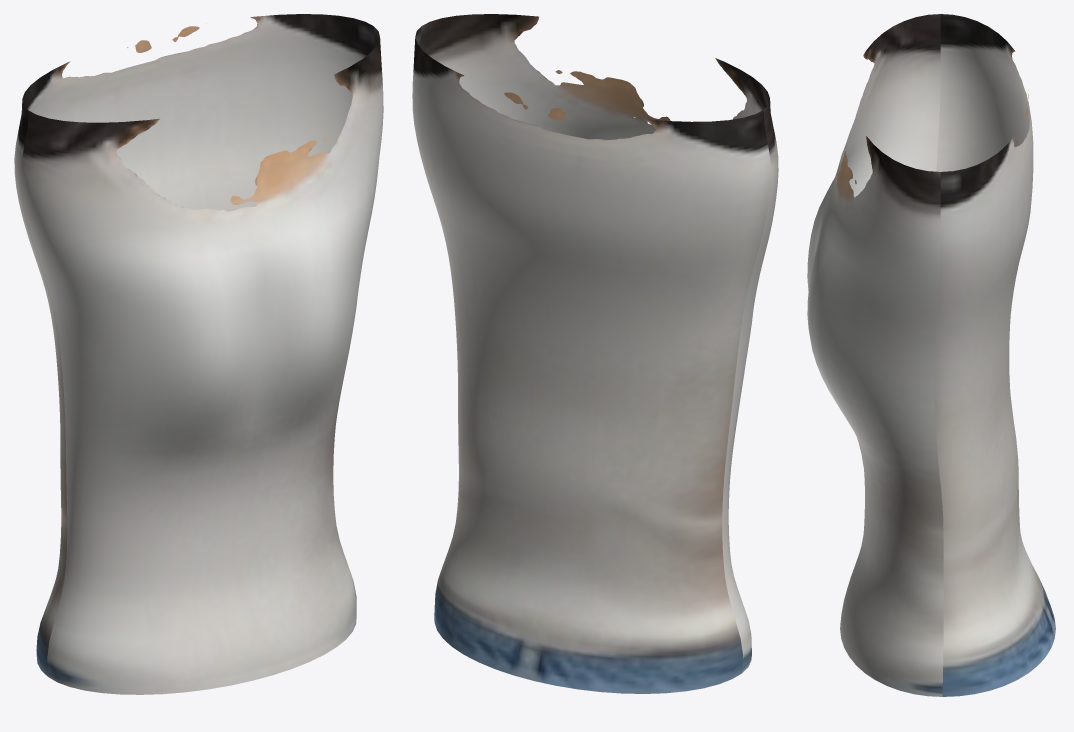
The model's file is prod-ae-acetate-beaded-tank.glb.
The picture shows the model from 3 angles, left to right: view 1: azimuth 30°, elevation 25°; view 2: azimuth 150°, elevation 25°; view 3: azimuth 270°, elevation 25°; orthographic projection. The views are drawn at different scales.
Visible parts, largest first — view 1: prod-ae-acetate-beaded-tank; view 2: prod-ae-acetate-beaded-tank; view 3: prod-ae-acetate-beaded-tank.
Part boxes in pixels (x1=…): prod-ae-acetate-beaded-tank: x1=14, y1=14, x2=383, y2=694; prod-ae-acetate-beaded-tank: x1=412, y1=14, x2=778, y2=693; prod-ae-acetate-beaded-tank: x1=807, y1=14, x2=1055, y2=696.
Bounding box in the file's own units: 0.2372 × 0.3805 × 0.1556.
1 material, 1 textured.
